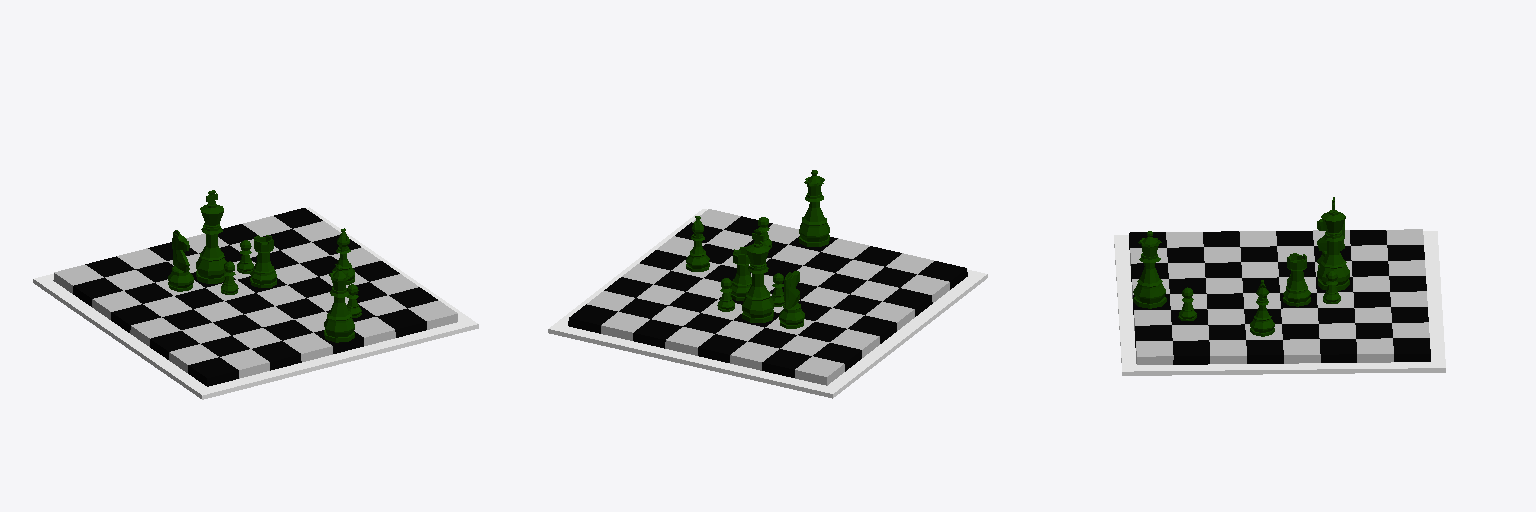
The model's file is blackPieces.obj.
3 views of the same model, side by side, from view 1: azimuth 30°, elevation 25°; view 2: azimuth 150°, elevation 25°; view 3: azimuth 270°, elevation 25° (orthographic).
Parts seen in each view (by area): view 1: Board, Black_King, Black_Queen, Black_Knight, Black_Rook, Bishop_Black; view 2: Board, Black_King, Black_Queen, Black_Knight, Black_Rook, Bishop_Black; view 3: Board, Black_King, Black_Queen, Black_Rook, Bishop_Black.
Part boxes in pixels (x1,y1,x2,y2): Board: (33,207,478,399); Black_King: (196,190,226,283); Black_Queen: (324,265,354,342); Black_Knight: (168,230,193,291); Black_Rook: (250,235,276,287); Bishop_Black: (332,228,354,284); Board: (548,209,987,398); Black_King: (742,229,773,322); Black_Queen: (799,170,829,246); Black_Knight: (779,271,804,328); Black_Rook: (730,247,751,300); Bishop_Black: (686,216,709,271); Board: (1114,229,1445,375); Black_King: (1317,197,1349,290); Black_Queen: (1133,231,1166,308); Black_Rook: (1283,253,1310,306); Bishop_Black: (1250,280,1274,336).
Bounding box in the file's own units: 1.16 × 0.3859 × 1.16.